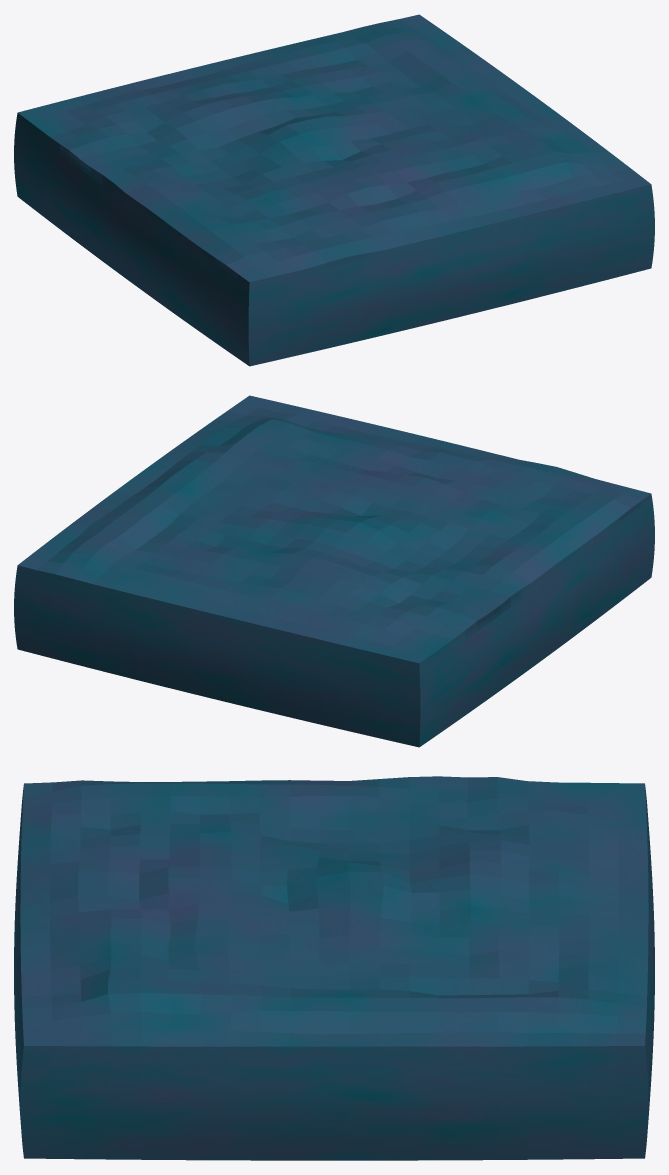
File: water.gltf
3 renders of one model, top to bottom at view 1: azimuth 30°, elevation 25°; view 2: azimuth 150°, elevation 25°; view 3: azimuth 270°, elevation 25°, orthographic. The views are drawn at different scales.
Visible parts, largest first — view 1: Cube; view 2: Cube; view 3: Cube.
Part boxes in pixels (left/top/right/bottom): Cube: left=14, top=14, right=654, bottom=366; Cube: left=14, top=395, right=654, bottom=747; Cube: left=14, top=776, right=654, bottom=1160.
Bounding box in the file's own units: 10.32 × 2.45 × 10.32.
Materials: 1 (1 with a texture image).
